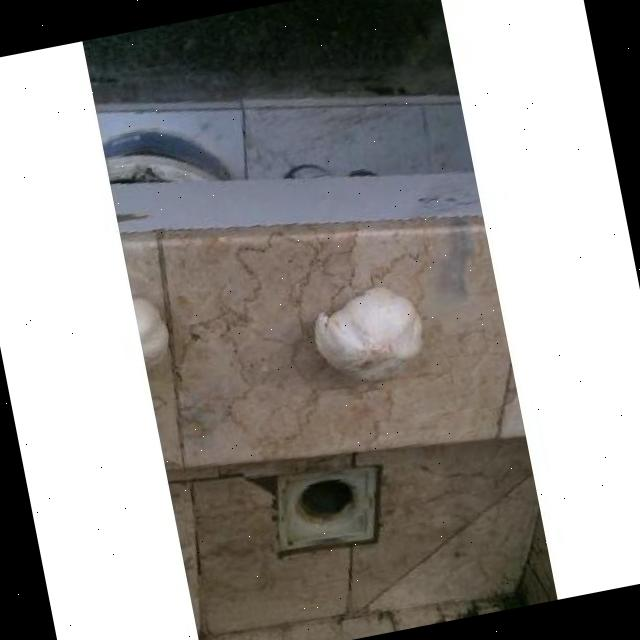garlic: (313, 287, 422, 380), (132, 297, 167, 364)
